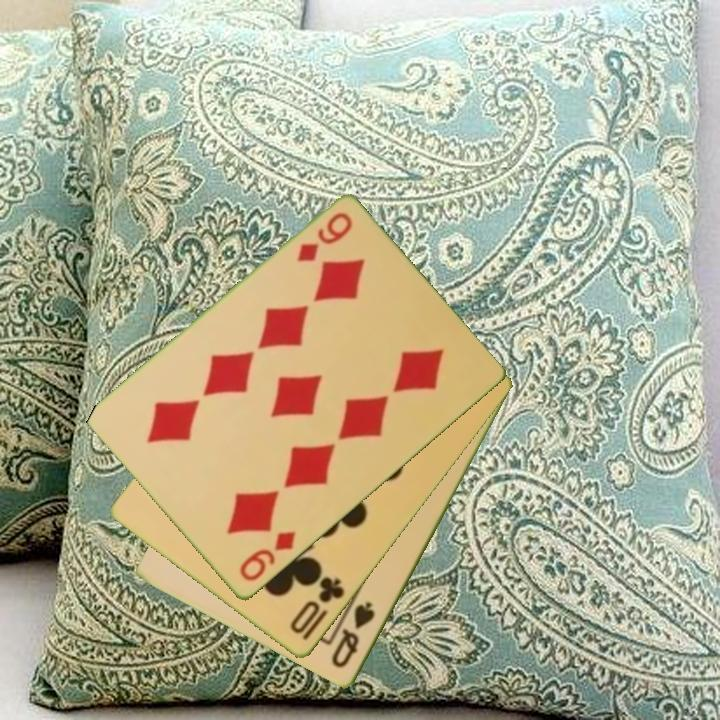10c: (286, 573, 348, 644)
9d: (235, 528, 299, 585), (293, 209, 356, 266)
Qs: (328, 598, 378, 672)
